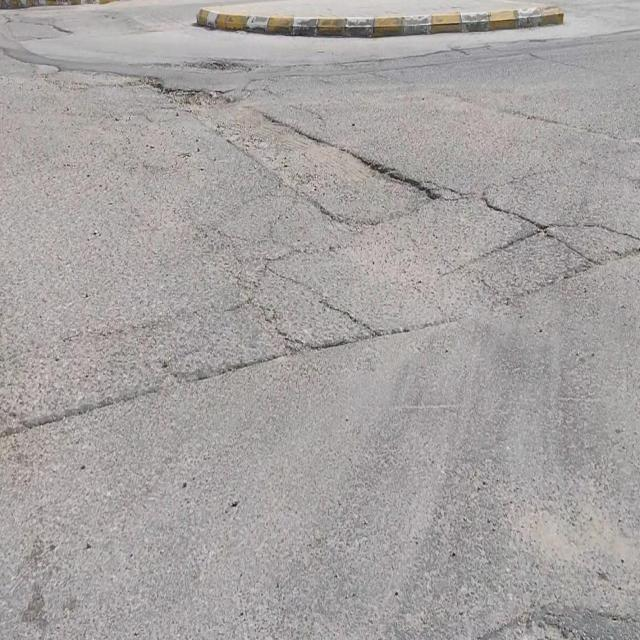Potholes: (284, 133, 445, 232)
